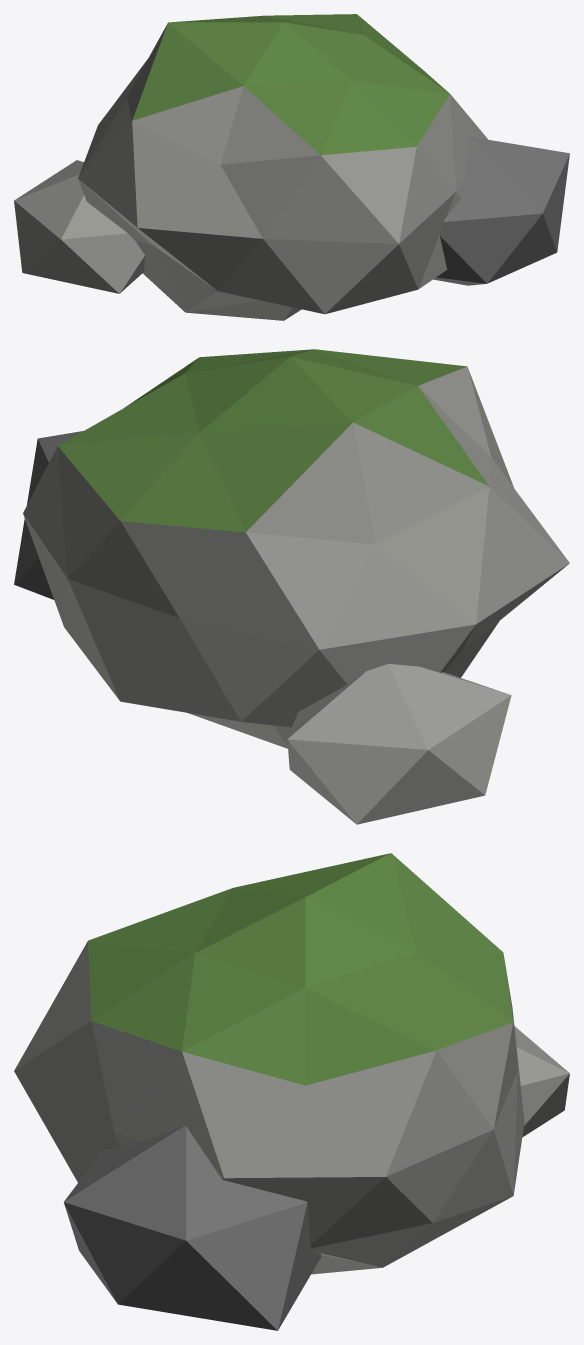
The model's file is rock.glb.
3 views of the same model, one above another, from view 1: azimuth 30°, elevation 25°; view 2: azimuth 150°, elevation 25°; view 3: azimuth 270°, elevation 25° (orthographic). The views are drawn at different scales.
Visible parts, largest first — view 1: rock-col; view 2: rock-col; view 3: rock-col.
Boxes of the visible parts, <box> form: rock-col: <box>14,14,569,320</box>; rock-col: <box>14,349,569,824</box>; rock-col: <box>14,853,569,1330</box>.
Bounding box in the file's own units: 1.4 × 0.9 × 1.2.
